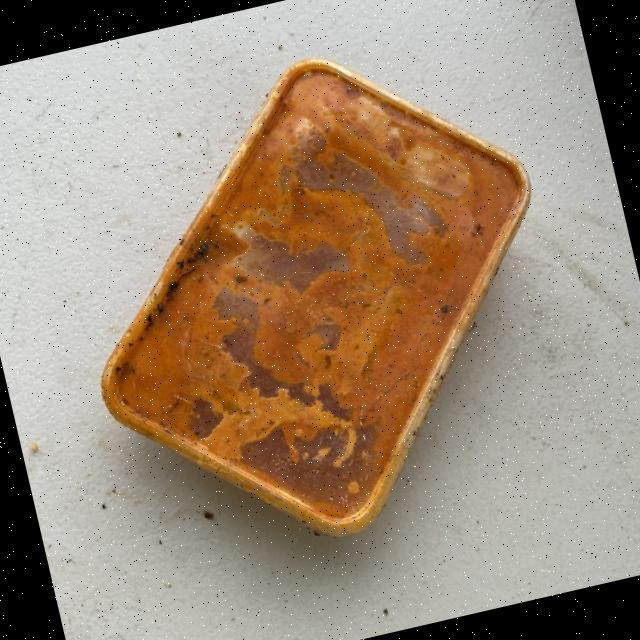plastic: (37, 14, 598, 582)
